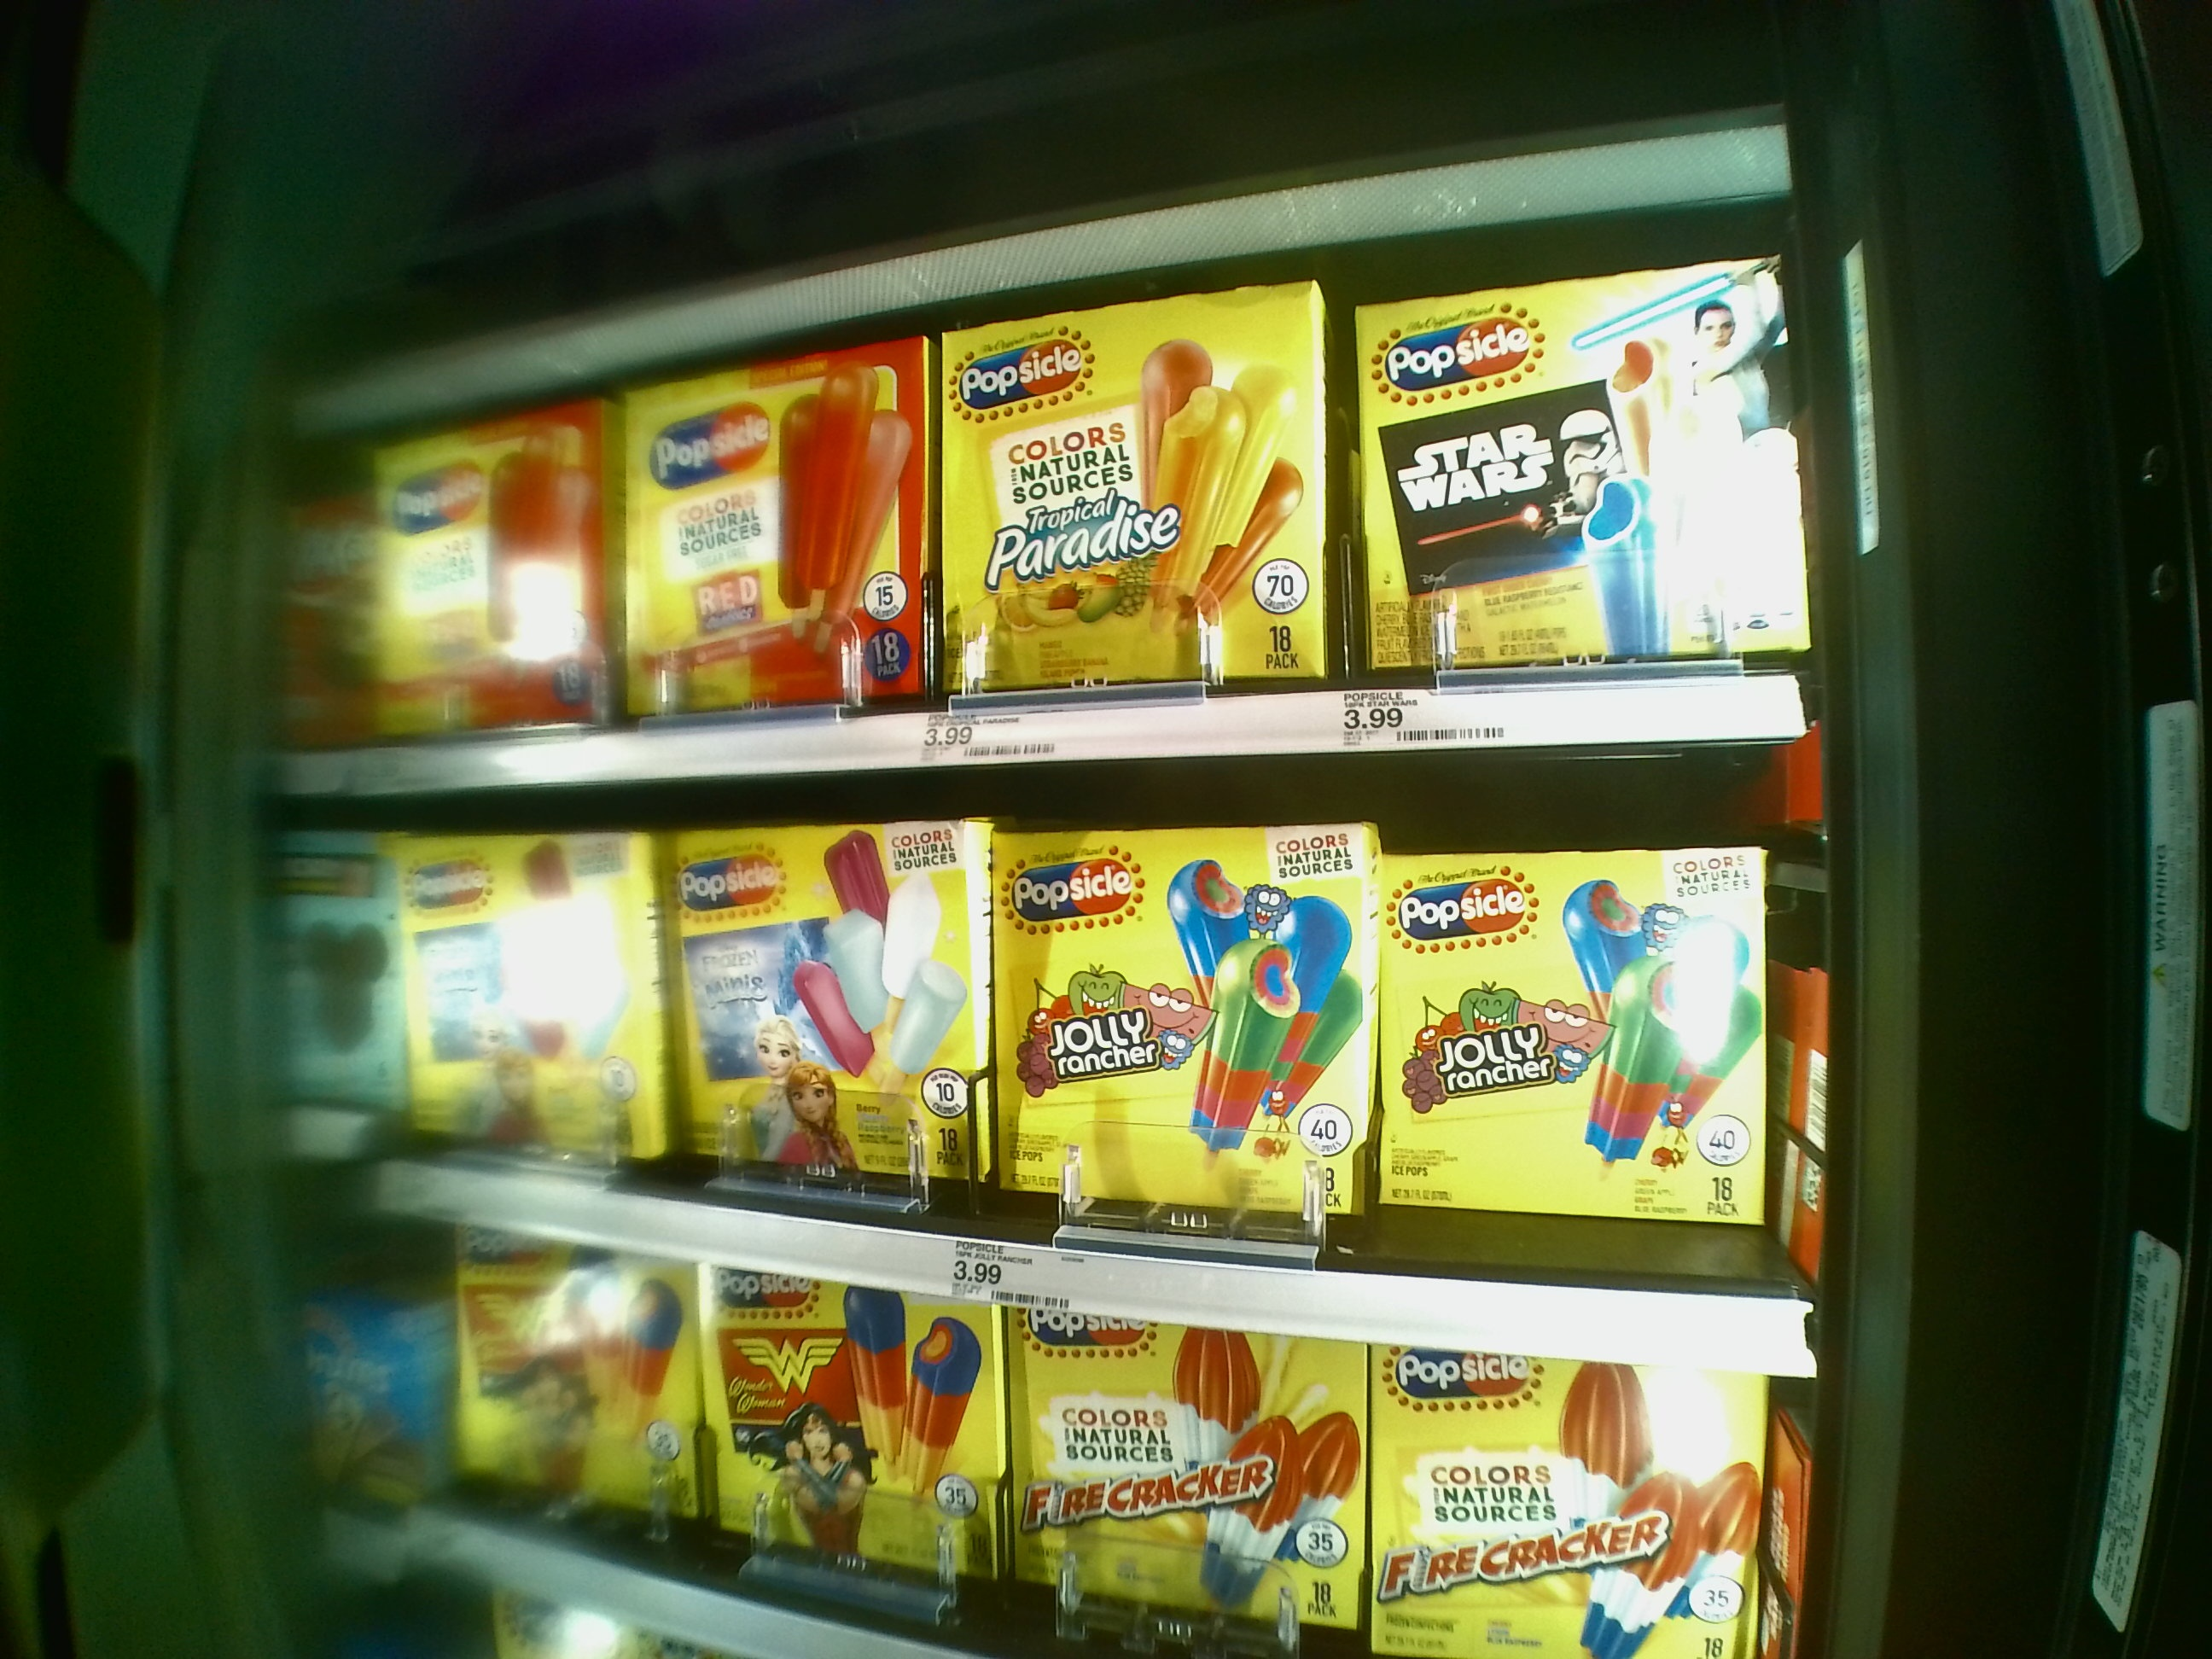shelf: (390, 760, 1829, 1319), (378, 254, 1804, 758)
